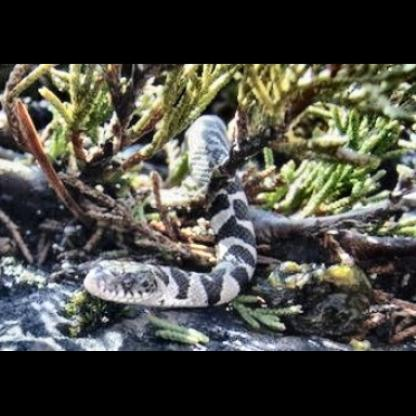Snake: (80, 106, 264, 314)
